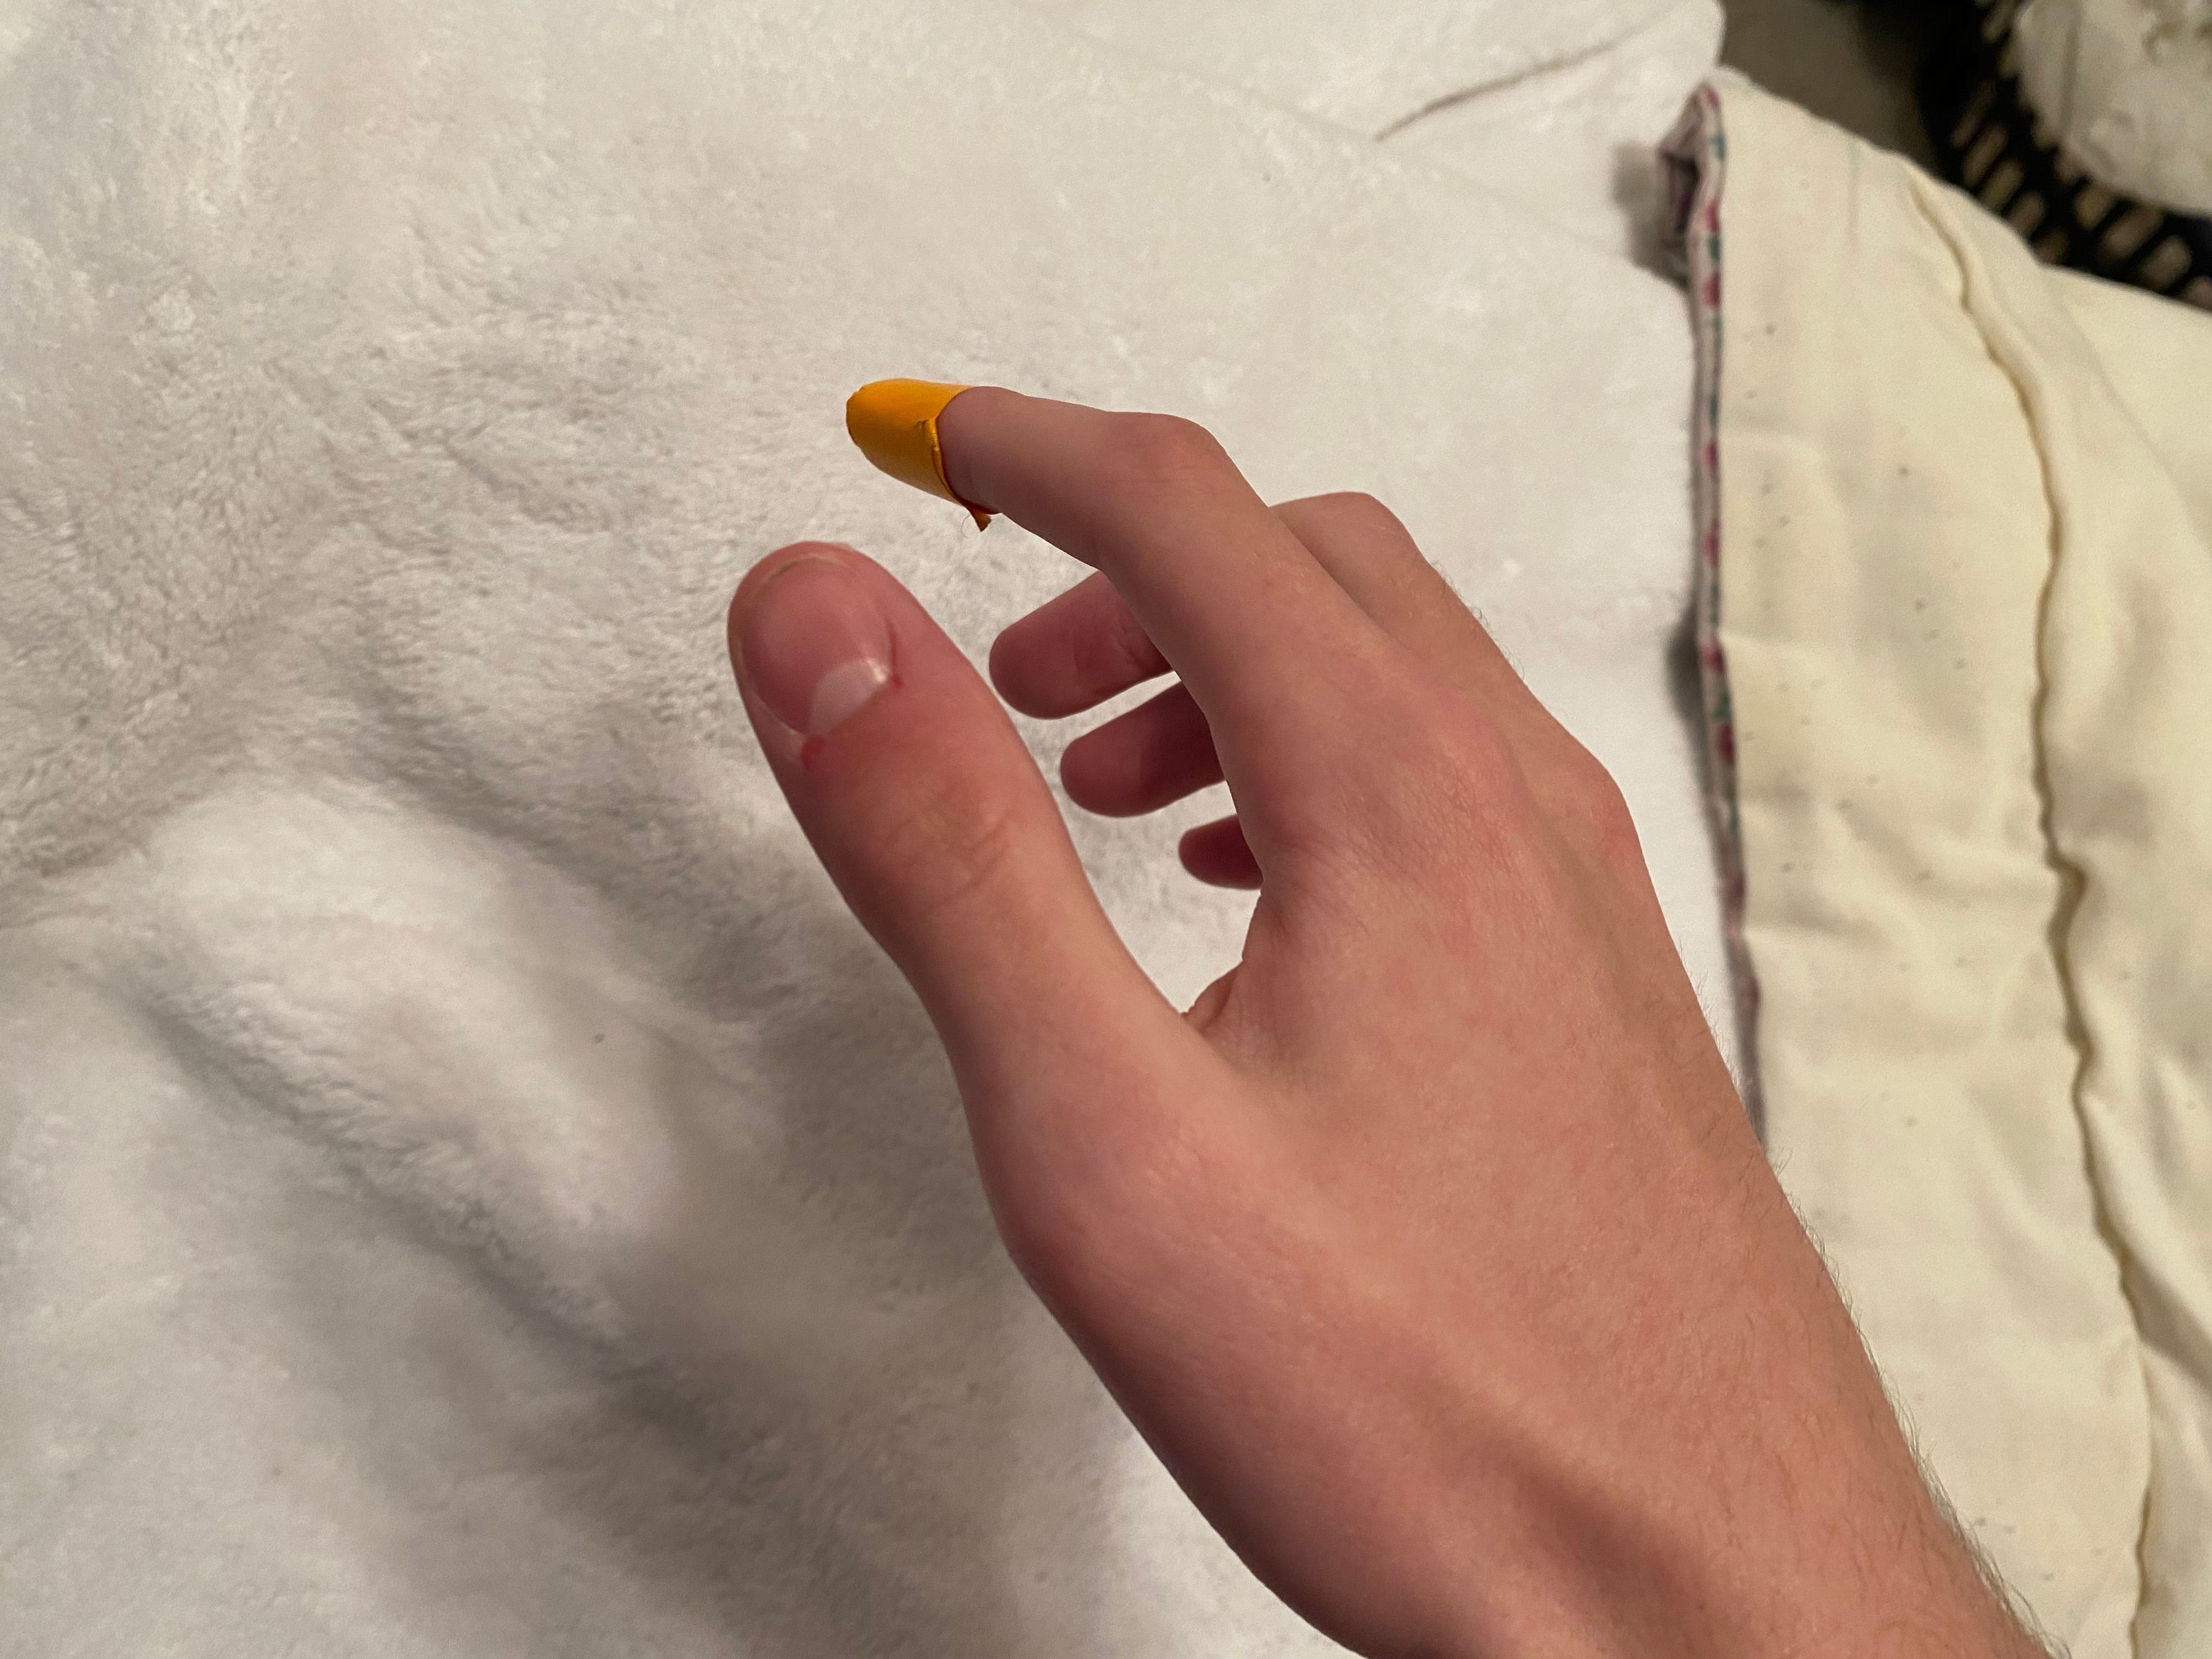fingertip: (827, 362, 996, 490)
